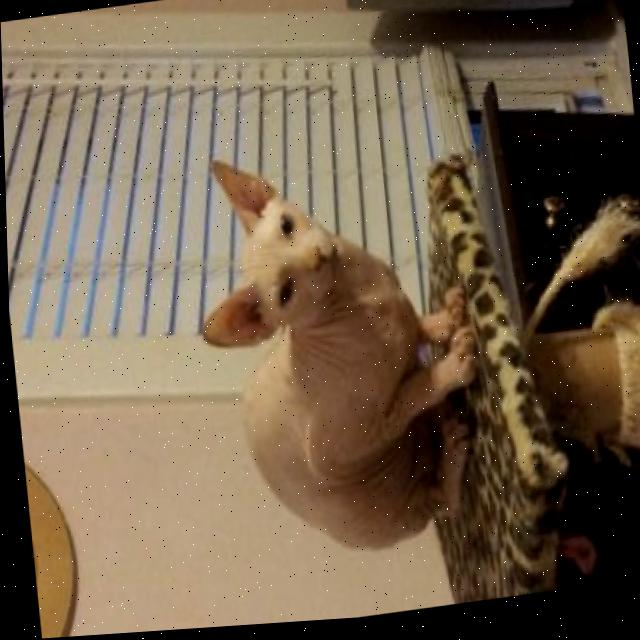Sphynx: (177, 126, 496, 581)
